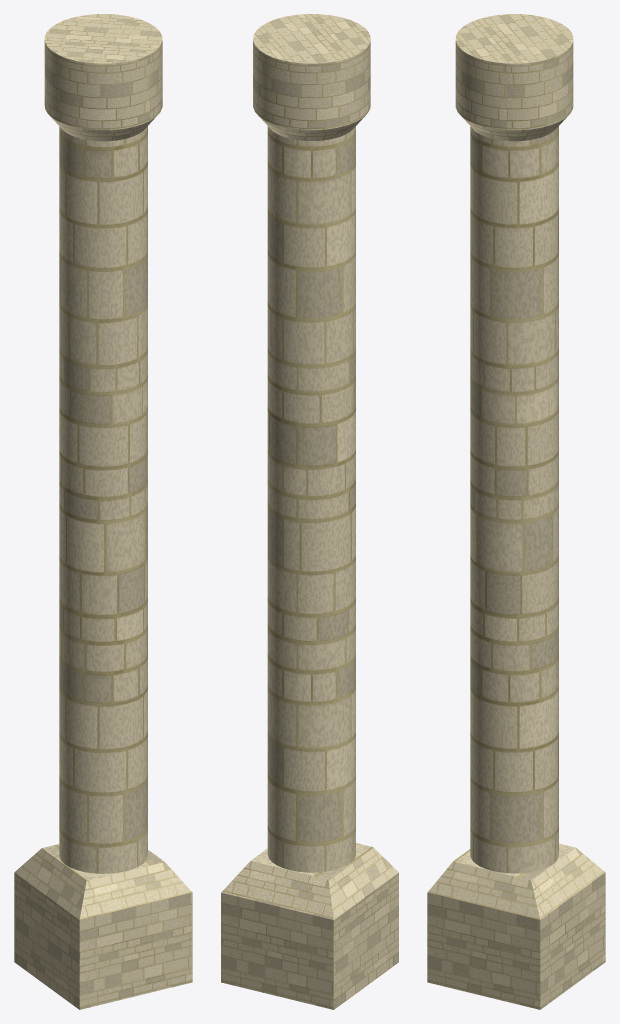
File: Pillar_1.gltf
The picture shows the model from 3 angles, left to right: view 1: azimuth 30°, elevation 25°; view 2: azimuth 150°, elevation 25°; view 3: azimuth 330°, elevation 25°; orthographic projection.
Visible parts, largest first — view 1: Cylinder.001; view 2: Cylinder.001; view 3: Cylinder.001.
Boxes of the visible parts, bbox=[...] form: Cylinder.001: bbox=[14, 14, 192, 1009]; Cylinder.001: bbox=[221, 14, 398, 1009]; Cylinder.001: bbox=[427, 14, 605, 1009].
Size of the model in its own units: 1.01 by 8.01 by 1.01.
1 material, 1 textured.
